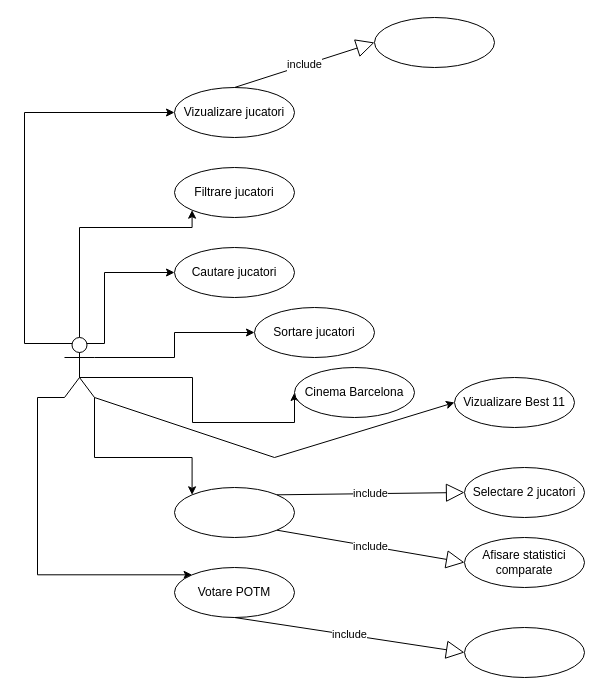
The diagram is 602 pixels wide and 695 high, and some of its shapes have lost their labels. The shapes that lost their labels are listed below. From the top down, each one's centre as x and y in pixels, then its label:
the point at 434,42: Afisare statistici detaliate
the point at 79,367: Culer
the point at 234,512: Comparare jucatori
the point at 524,652: Vizualizare rezultat vot
